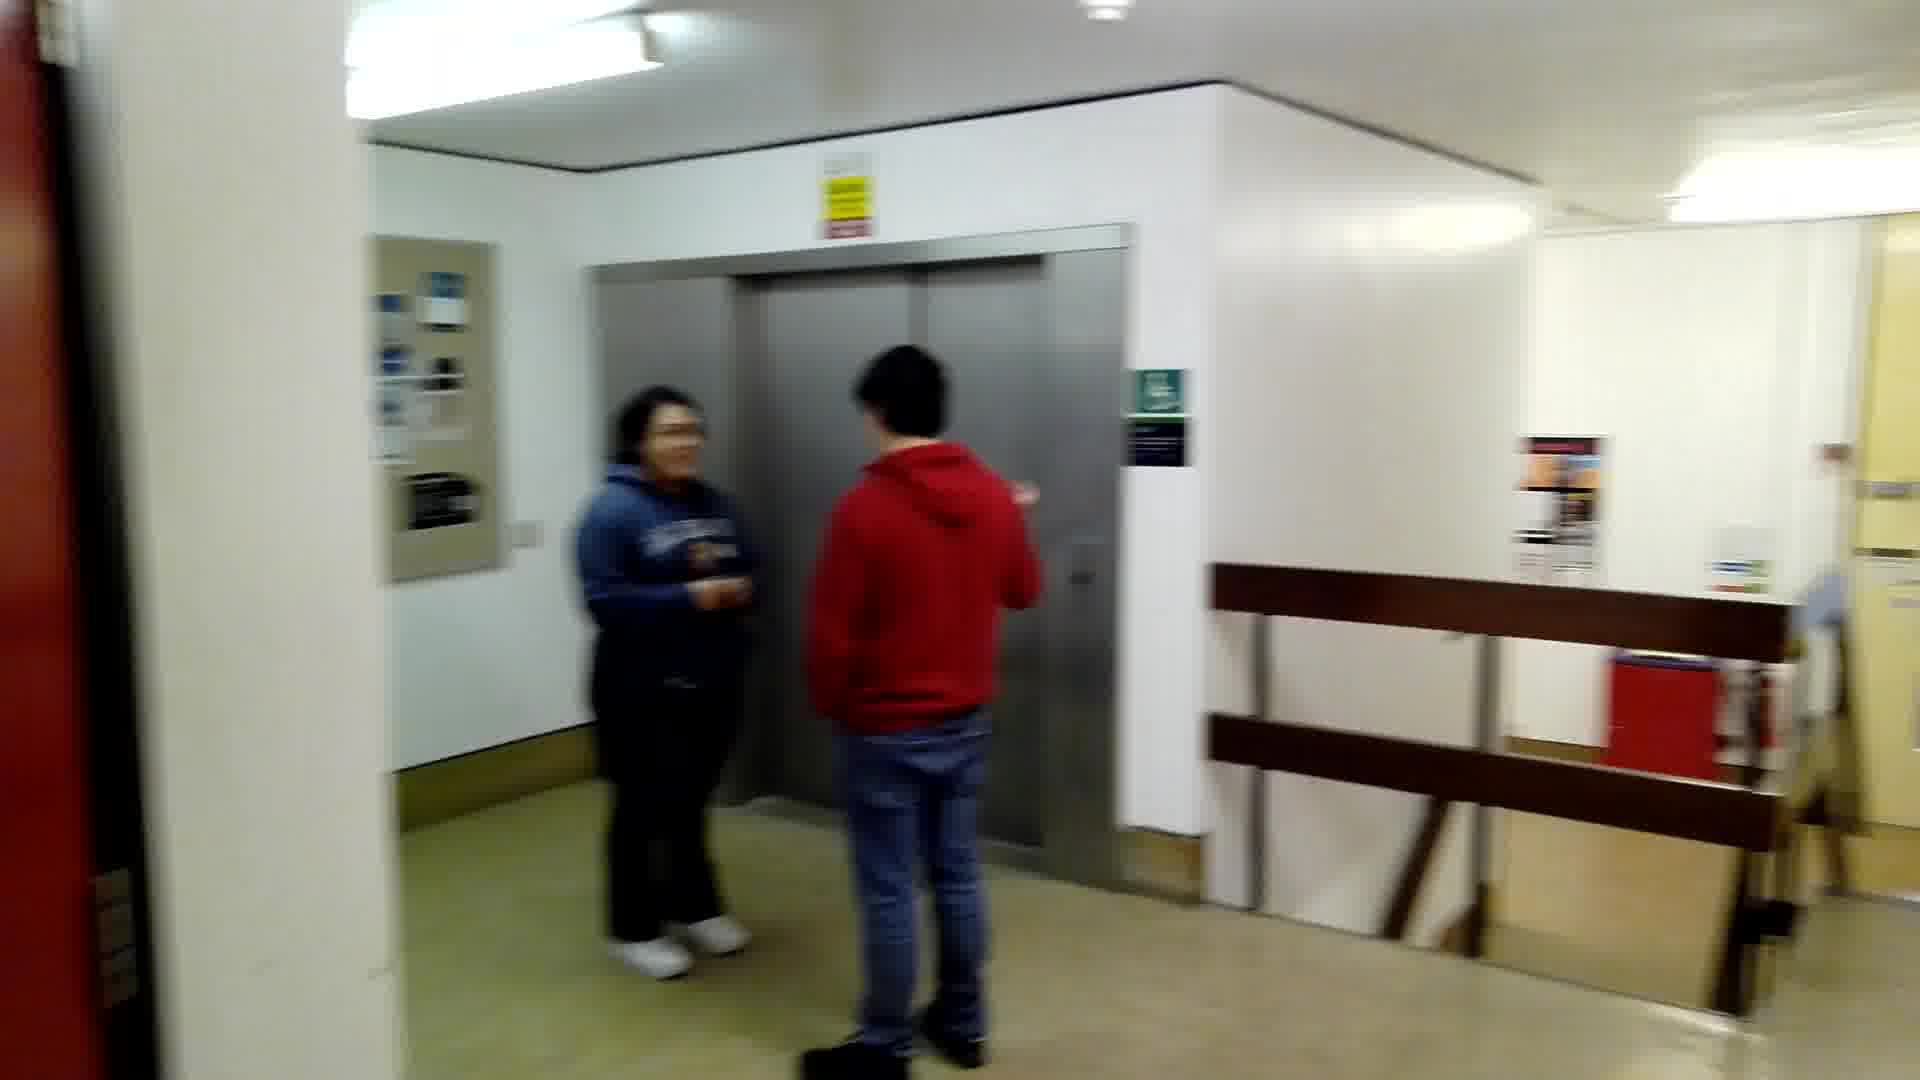Bin: (1601, 649, 1719, 772)
Person: (801, 350, 1037, 1079), (568, 379, 769, 964)
